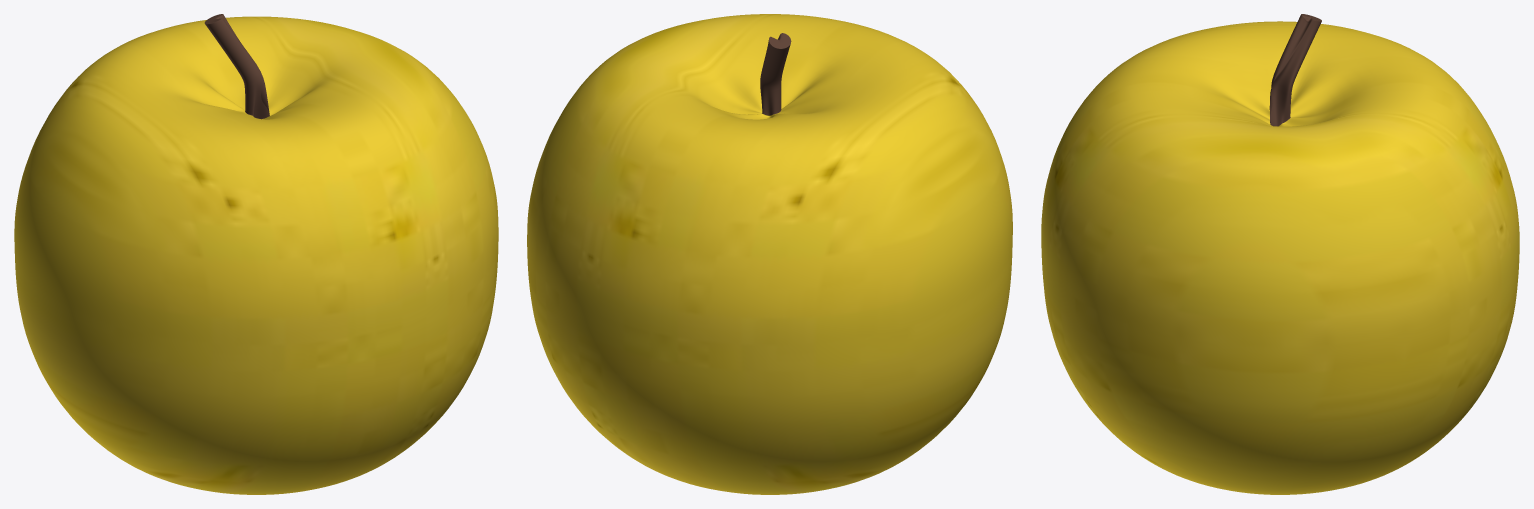
Rendered from Yellow_Apple2.fbx.
The picture shows the model from 3 angles, left to right: view 1: azimuth 30°, elevation 25°; view 2: azimuth 150°, elevation 25°; view 3: azimuth 270°, elevation 25°; orthographic projection.
Parts seen in each view (by area): view 1: Yellow_Apple1; view 2: Yellow_Apple1; view 3: Yellow_Apple1.
Part boxes in pixels (x1,y1,x2,y2): Yellow_Apple1: [14, 14, 498, 494]; Yellow_Apple1: [527, 14, 1012, 494]; Yellow_Apple1: [1041, 14, 1519, 494].
Bounding box in the file's own units: 1.66 × 1.63 × 1.66.
Materials: 2 (2 with a texture image).
